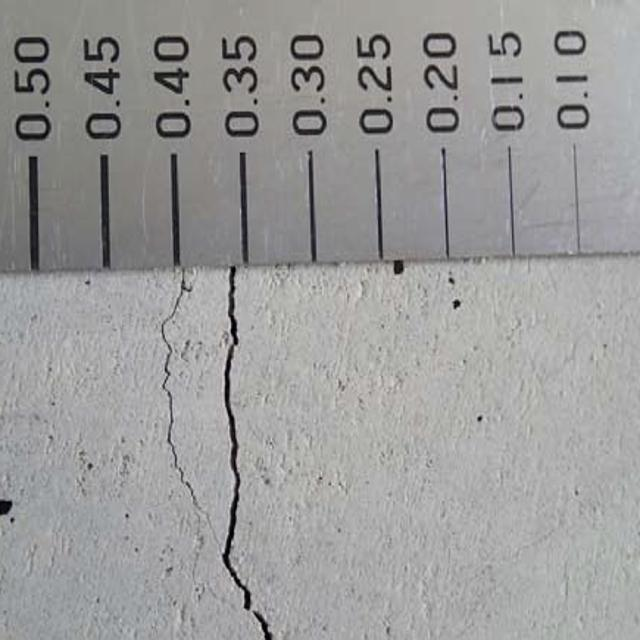crack: (138, 273, 286, 640)
